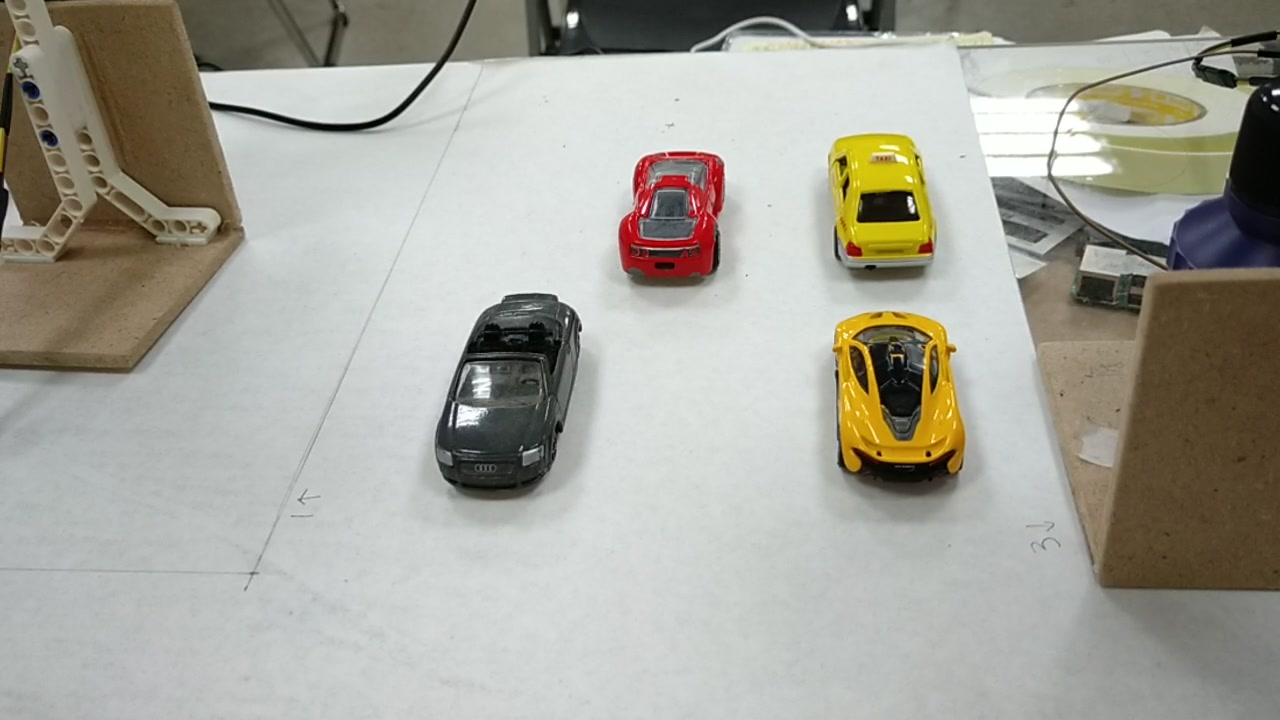car: (436, 299, 580, 490), (835, 306, 961, 483), (613, 150, 733, 272), (830, 135, 937, 271)
